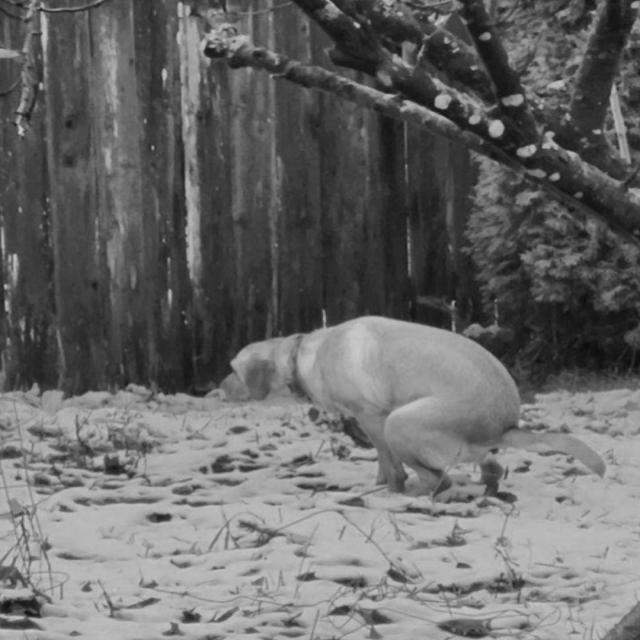squatting: (218, 311, 610, 503)
